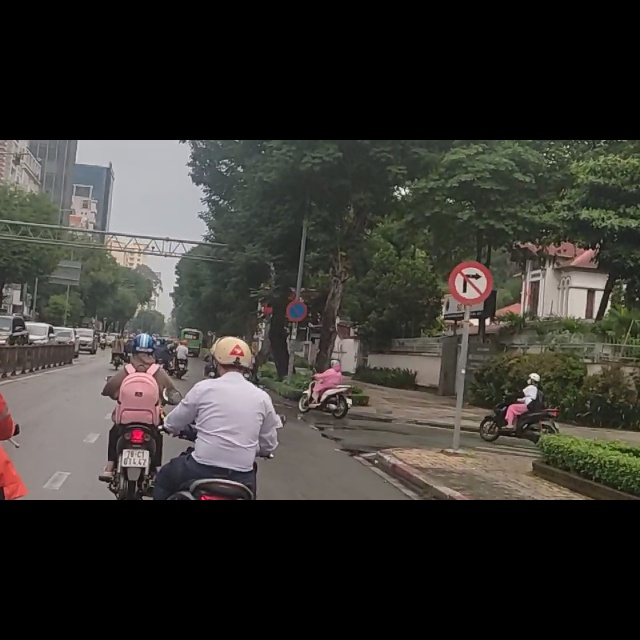bien_cam: (447, 215, 493, 289), (285, 284, 308, 324)
